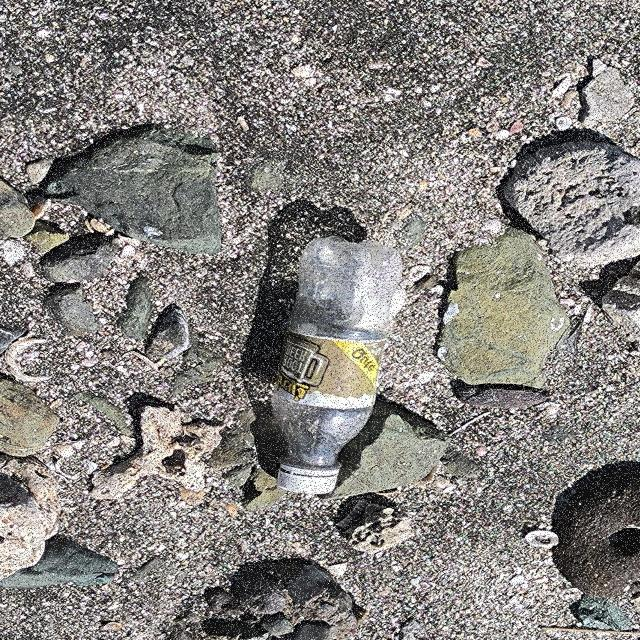plastic_waste: (271, 240, 405, 496)
